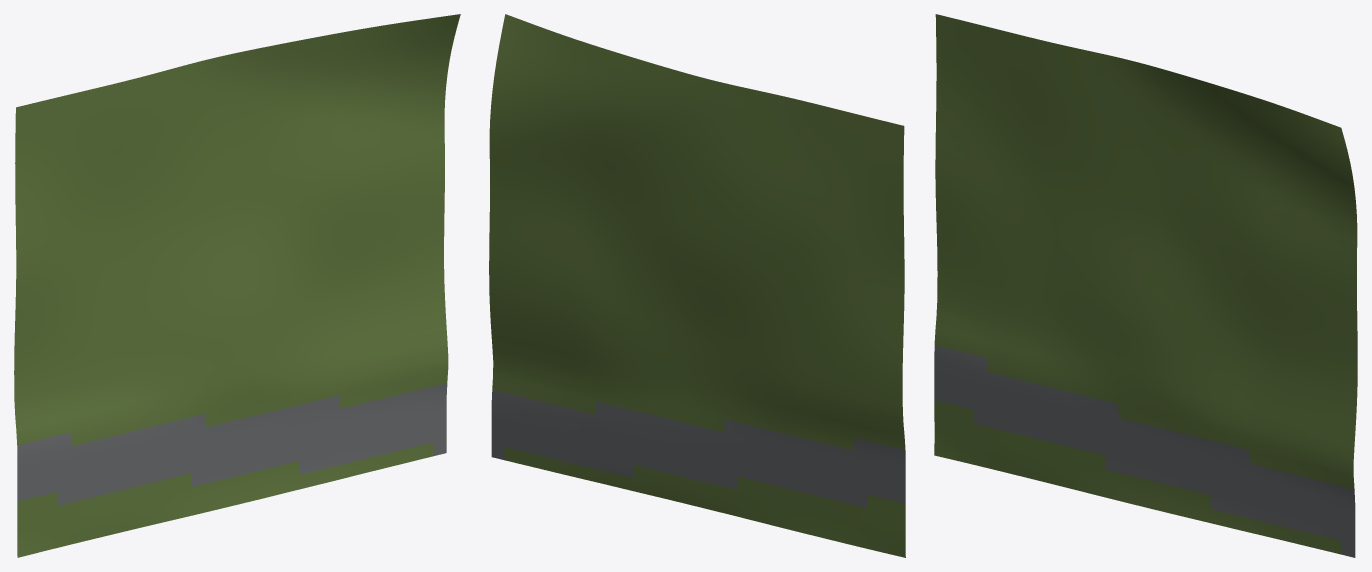
Rendered from island_terrain_23_07.obj.
3 views of the same model, side by side, from view 1: azimuth 30°, elevation 25°; view 2: azimuth 150°, elevation 25°; view 3: azimuth 330°, elevation 25° (orthographic). The views are drawn at different scales.
Visible parts, largest first — view 1: island_terrain_23_07; view 2: island_terrain_23_07; view 3: island_terrain_23_07.
Boxes of the visible parts, bbox=[...] form: island_terrain_23_07: bbox=[14, 14, 460, 557]; island_terrain_23_07: bbox=[489, 14, 905, 557]; island_terrain_23_07: bbox=[934, 14, 1357, 557].
Size of the model in its own units: 256 by 256 by 19.4.
